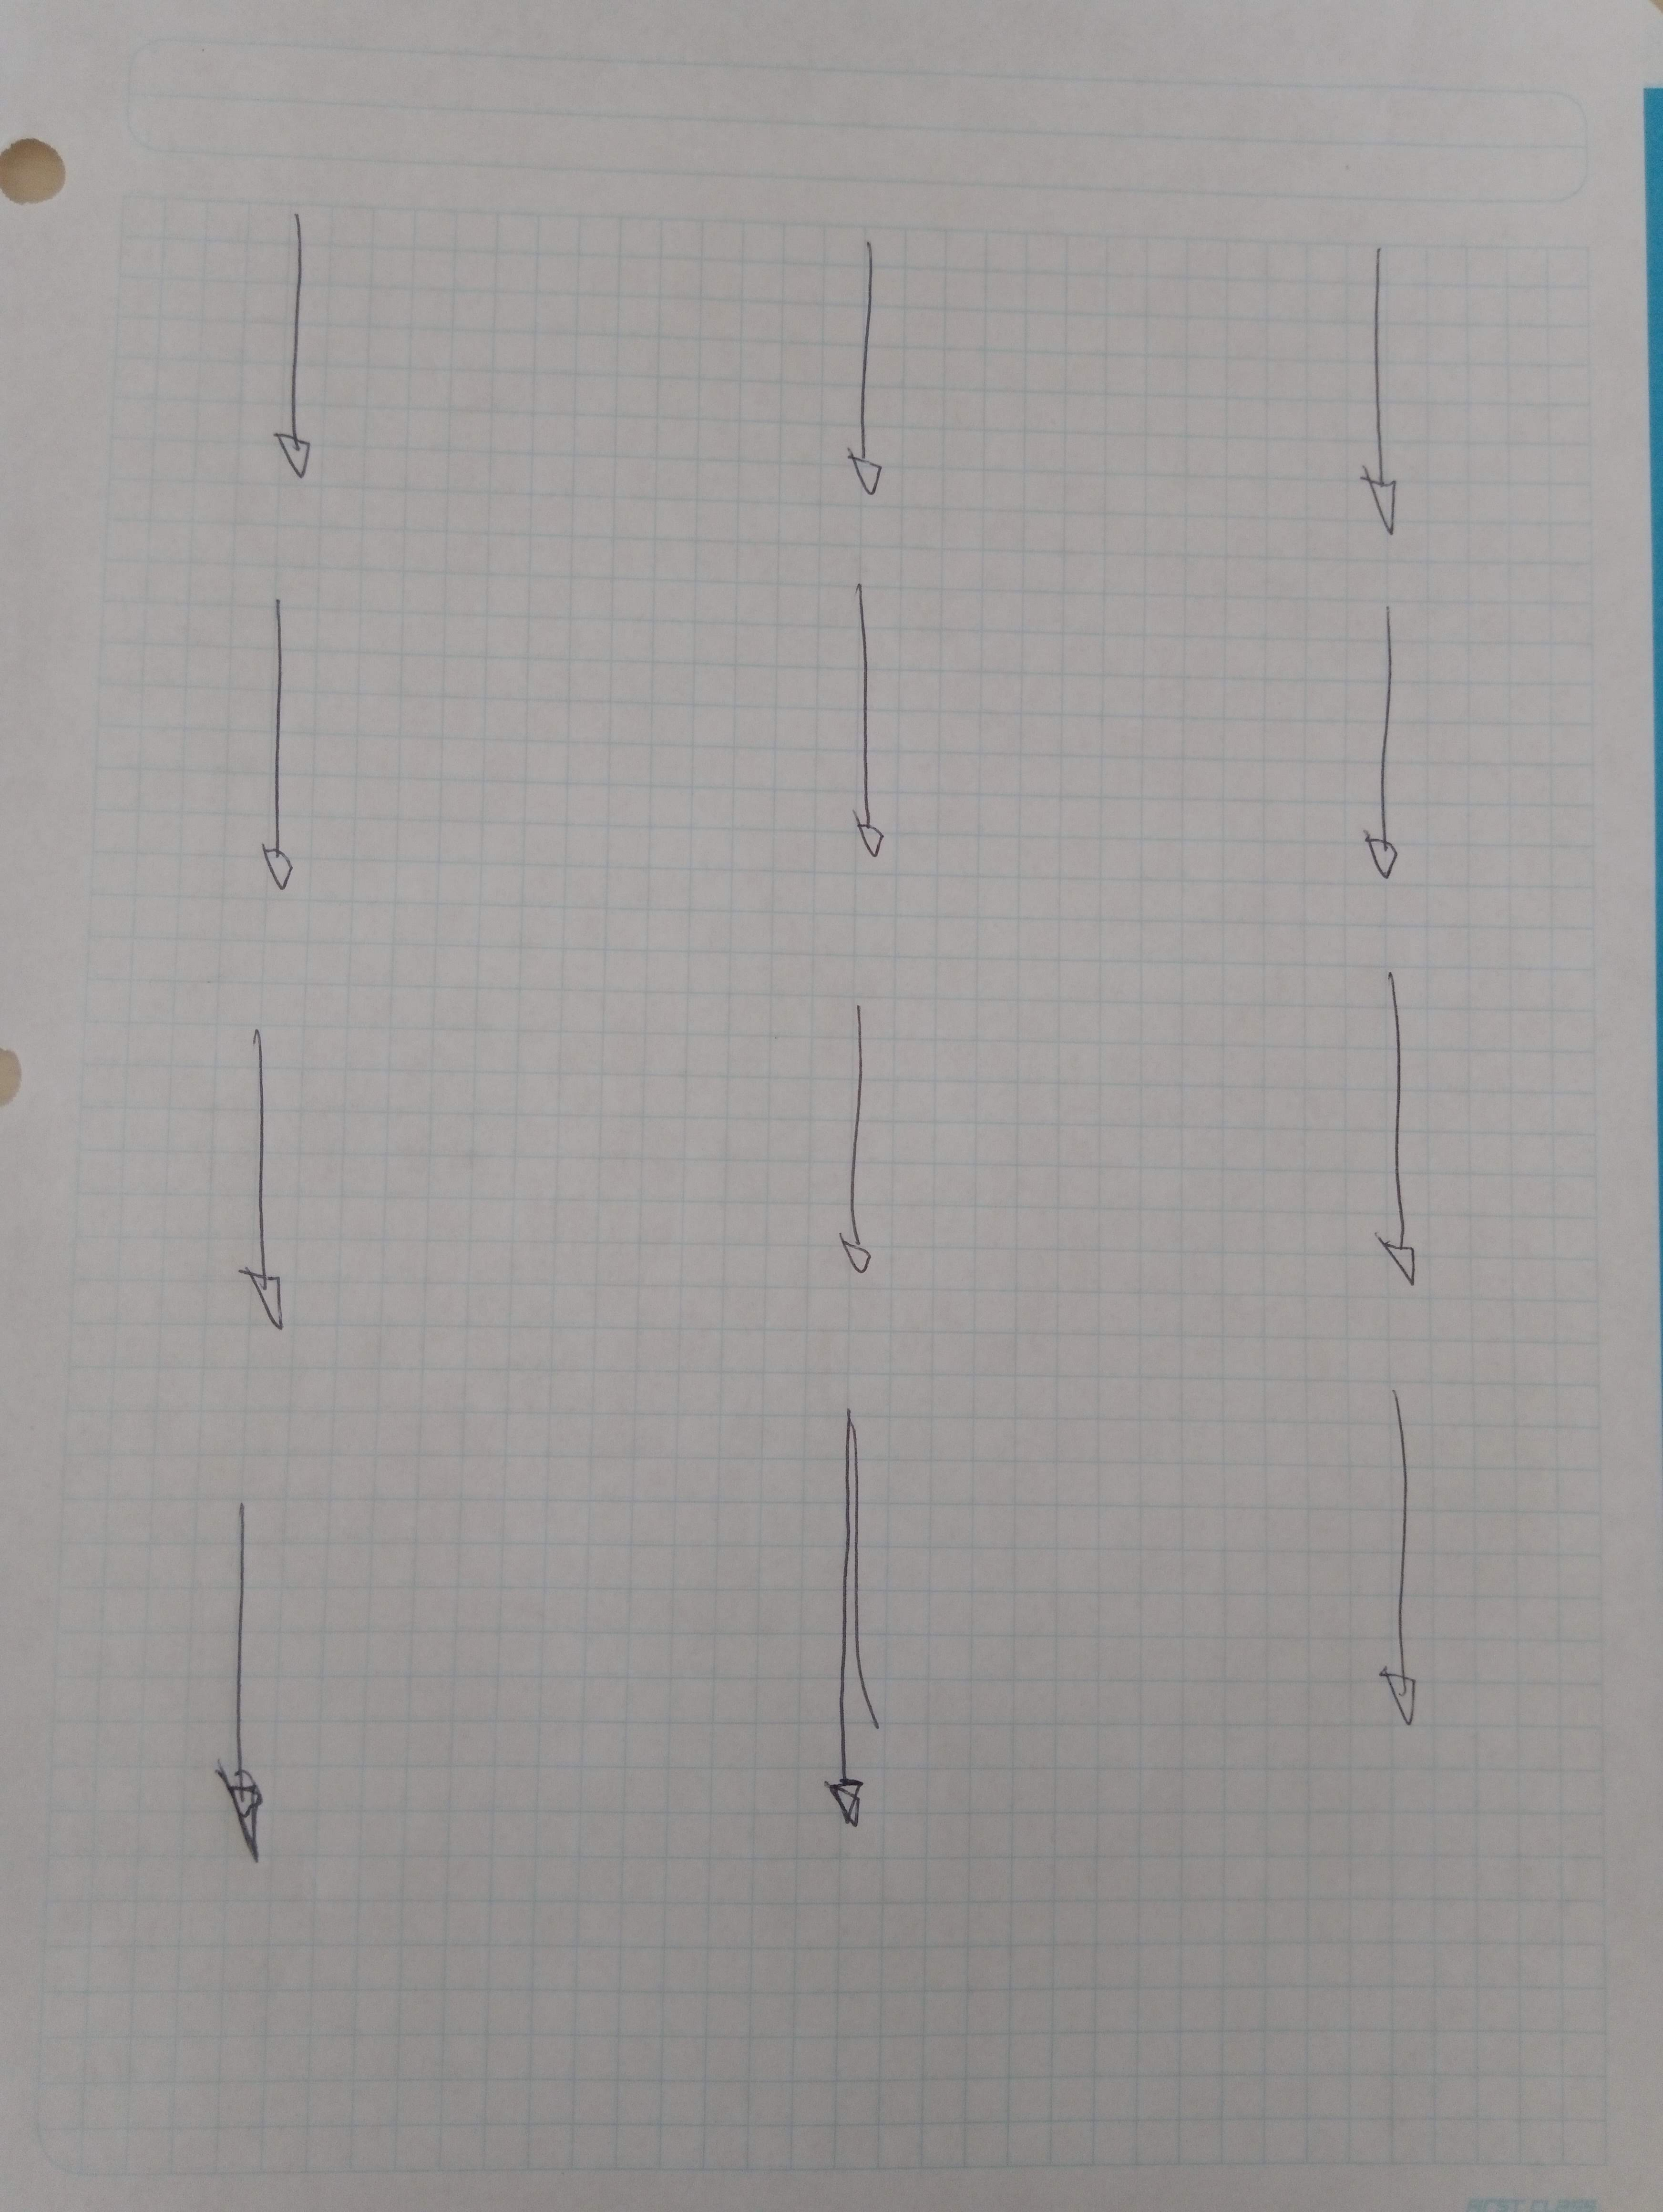arrow_line_down: (807, 1414, 917, 1828), (217, 1487, 293, 1872), (1364, 978, 1453, 1304), (206, 1028, 300, 1332), (800, 1014, 907, 1281), (1364, 1395, 1441, 1734), (246, 581, 316, 890), (840, 218, 910, 515), (1347, 241, 1417, 534), (1350, 611, 1424, 885), (844, 571, 910, 864), (257, 215, 323, 494)
